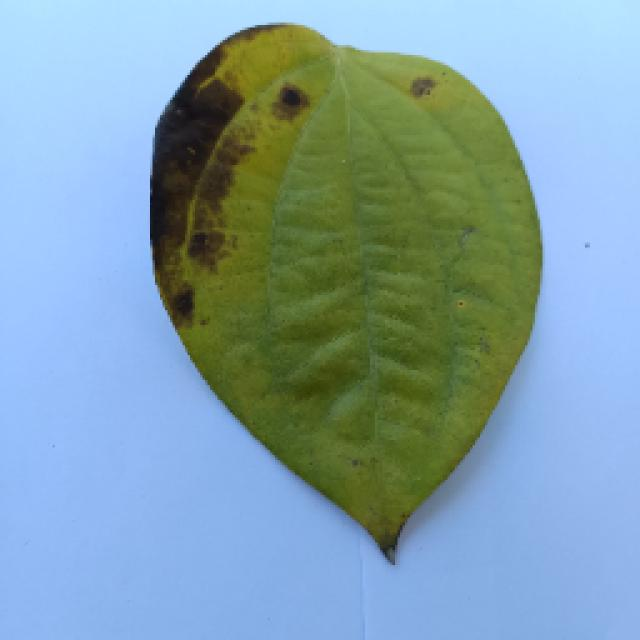slow-decline: (127, 25, 565, 573)
